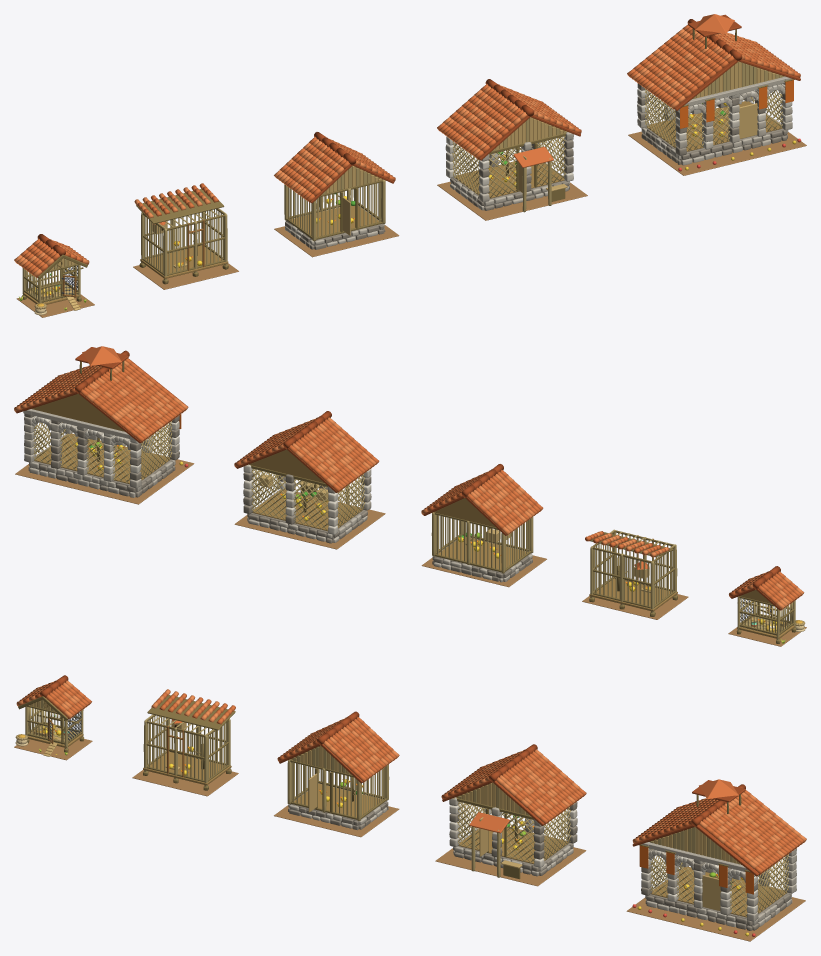
The model's file is voliere-niveaux.glb.
3 renders of one model, top to bottom at view 1: azimuth 30°, elevation 25°; view 2: azimuth 150°, elevation 25°; view 3: azimuth 330°, elevation 25°, orthographic.
Parts seen in each view (by area): view 1: tuile.011, tuile.008, latte, latte.002, pierre.005, latte.003, tuile.006, latte.001, tuile.012, terre_battue.004, pierre.006, tuile.009 (+32 smaller); view 2: tuile.011, tuile.008, pierre.005, latte.002, latte, latte.003, latte.001, tuile.006, tuile.012, pierre.006, plancher.004, tuile.009 (+27 smaller); view 3: tuile.011, tuile.008, pierre.005, latte, tuile.006, latte.002, latte.003, tuile.012, latte.001, terre_battue.004, tuile.009, pierre.006 (+33 smaller).
Part boxes in pixels (x1=…): tuile.011: x1=627, y1=24, x2=800, y2=107; tuile.008: x1=437, y1=84, x2=581, y2=159; latte: x1=144, y1=208, x2=226, y2=273; latte.002: x1=452, y1=136, x2=566, y2=197; pierre.005: x1=637, y1=84, x2=792, y2=165; latte.003: x1=645, y1=83, x2=783, y2=150; tuile.006: x1=279, y1=137, x2=395, y2=202; latte.001: x1=288, y1=182, x2=381, y2=237; tuile.012: x1=632, y1=29, x2=794, y2=109; terre_battue.004: x1=628, y1=131, x2=806, y2=175; pierre.006: x1=637, y1=83, x2=787, y2=164; tuile.009: x1=443, y1=84, x2=575, y2=157; tuile.011: x1=17, y1=358, x2=185, y2=442; tuile.008: x1=234, y1=419, x2=379, y2=492; pierre.005: x1=24, y1=416, x2=179, y2=497; latte.002: x1=251, y1=469, x2=365, y2=530; latte: x1=593, y1=529, x2=675, y2=606; latte.003: x1=33, y1=416, x2=172, y2=482; latte.001: x1=436, y1=515, x2=529, y2=569; tuile.006: x1=424, y1=470, x2=543, y2=529; tuile.012: x1=14, y1=360, x2=187, y2=438; pierre.006: x1=24, y1=413, x2=179, y2=497; plancher.004: x1=34, y1=433, x2=170, y2=484; tuile.009: x1=240, y1=417, x2=376, y2=486; tuile.011: x1=635, y1=790, x2=803, y2=874; tuile.008: x1=441, y1=749, x2=586, y2=824; pierre.005: x1=641, y1=848, x2=796, y2=927; latte: x1=145, y1=714, x2=227, y2=780; tuile.006: x1=277, y1=717, x2=396, y2=782; latte.002: x1=456, y1=802, x2=571, y2=862; latte.003: x1=650, y1=849, x2=788, y2=916; tuile.012: x1=632, y1=792, x2=806, y2=868; latte.001: x1=291, y1=762, x2=385, y2=817; terre_battue.004: x1=626, y1=897, x2=805, y2=941; tuile.009: x1=444, y1=749, x2=580, y2=818; pierre.006: x1=641, y1=849, x2=790, y2=930.
Bounding box in the file's own units: 25.07 × 3.96 × 3.2.
